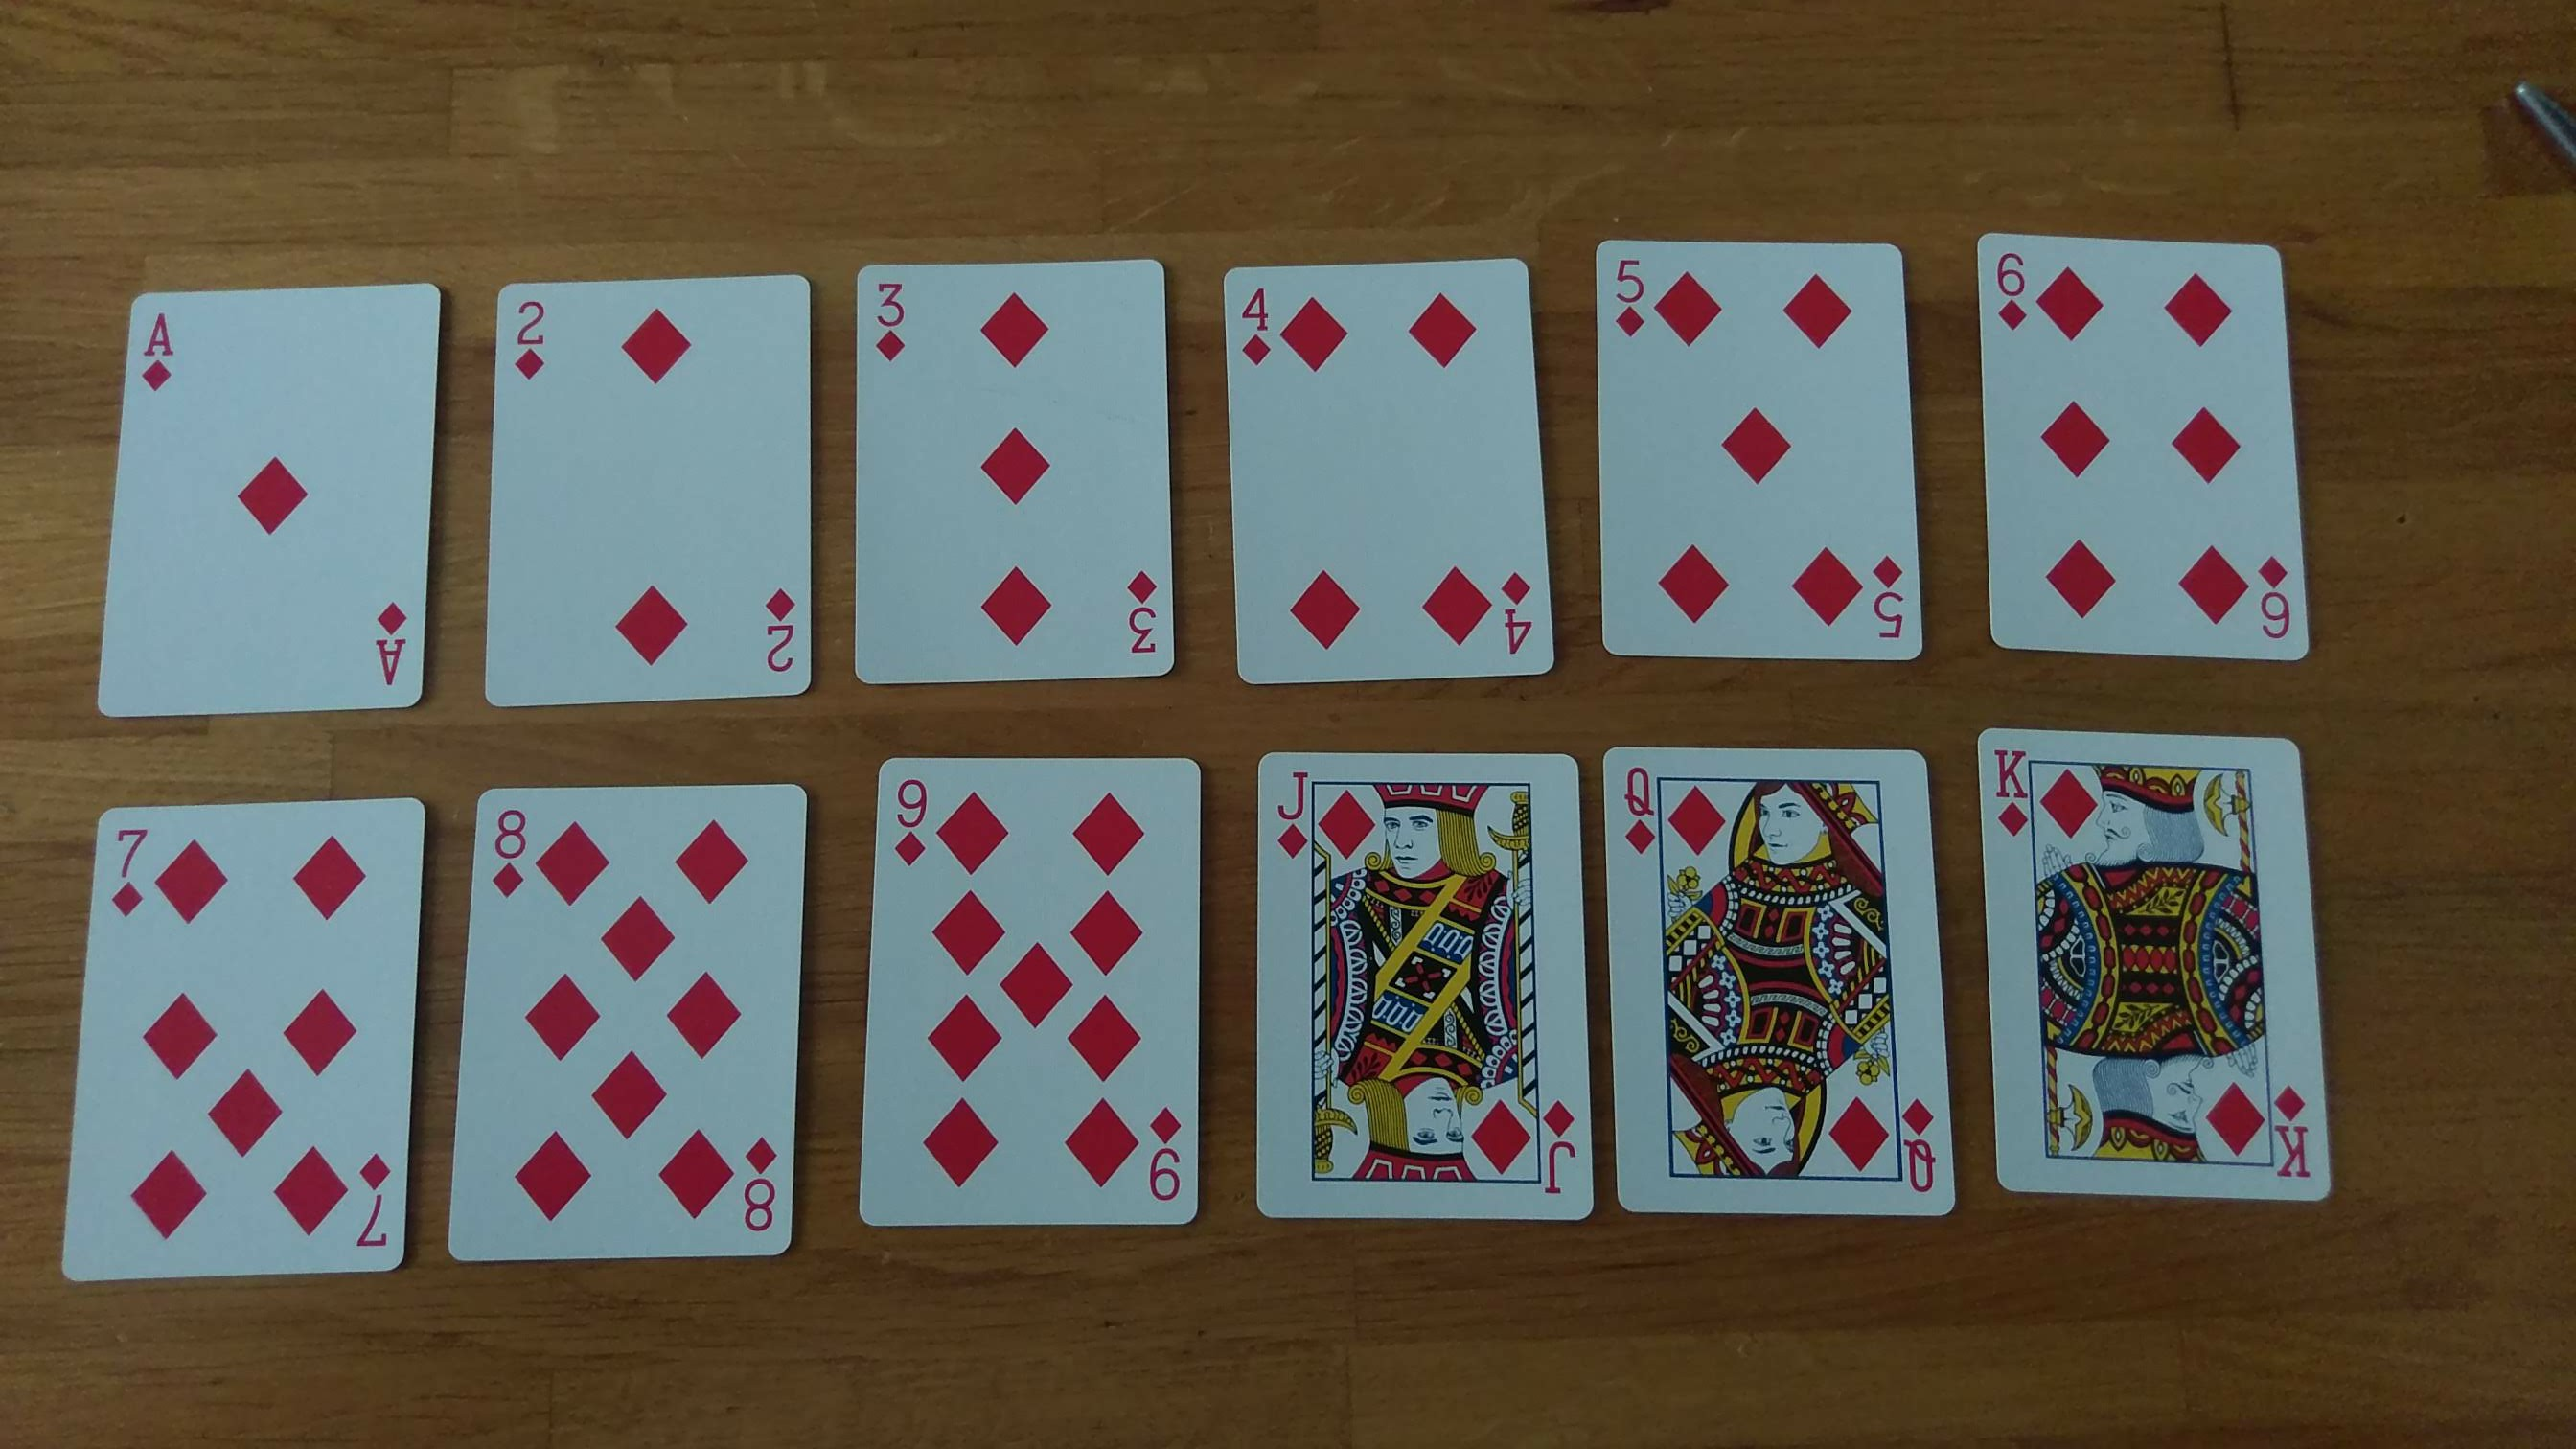1Q: (361, 589, 419, 699), (134, 299, 189, 407)
2Q: (750, 579, 810, 692), (510, 288, 563, 387)
3Q: (1113, 566, 1168, 671), (869, 274, 913, 375)
4Q: (1497, 566, 1536, 665), (1238, 280, 1279, 372)
5Q: (1865, 547, 1913, 658), (1606, 244, 1658, 347)
6Q: (2249, 538, 2300, 653), (1987, 244, 2035, 340)
7Q: (350, 1134, 402, 1265), (103, 823, 156, 931)
8Q: (479, 793, 536, 906), (732, 1125, 778, 1244)
9Q: (885, 768, 936, 874), (1143, 1100, 1191, 1214)
JQ: (1541, 1086, 1585, 1203), (1270, 755, 1313, 867)
KQ: (1987, 736, 2038, 847), (1898, 1093, 1948, 1205), (1615, 755, 1665, 863), (2270, 1077, 2316, 1189)
